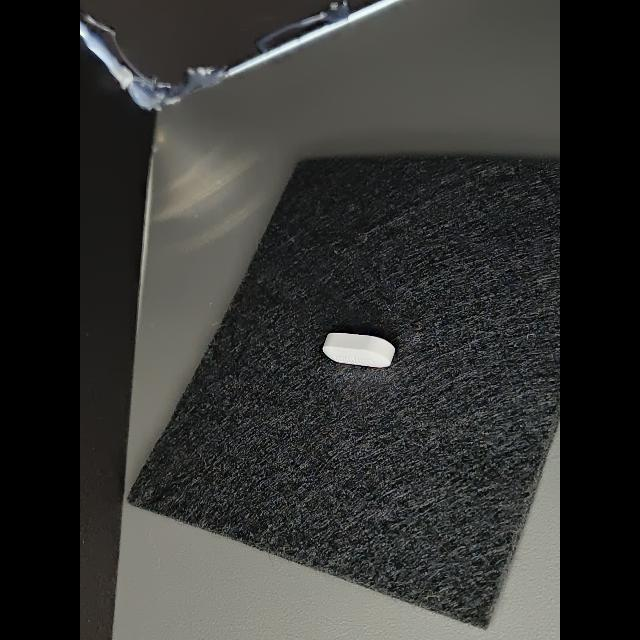Intact Pill: (323, 333, 395, 368)
